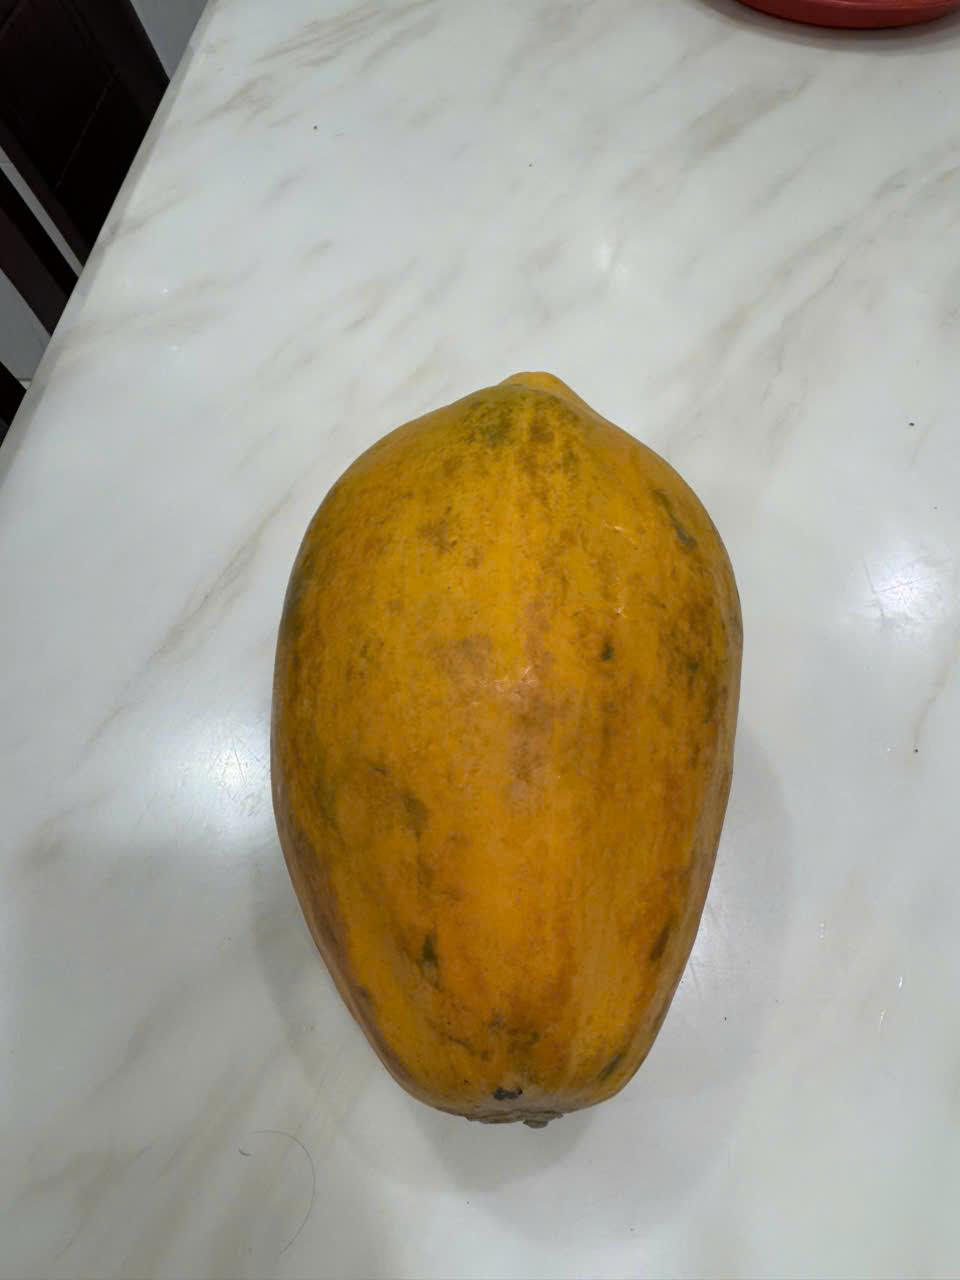papaya: (264, 336, 768, 1164)
